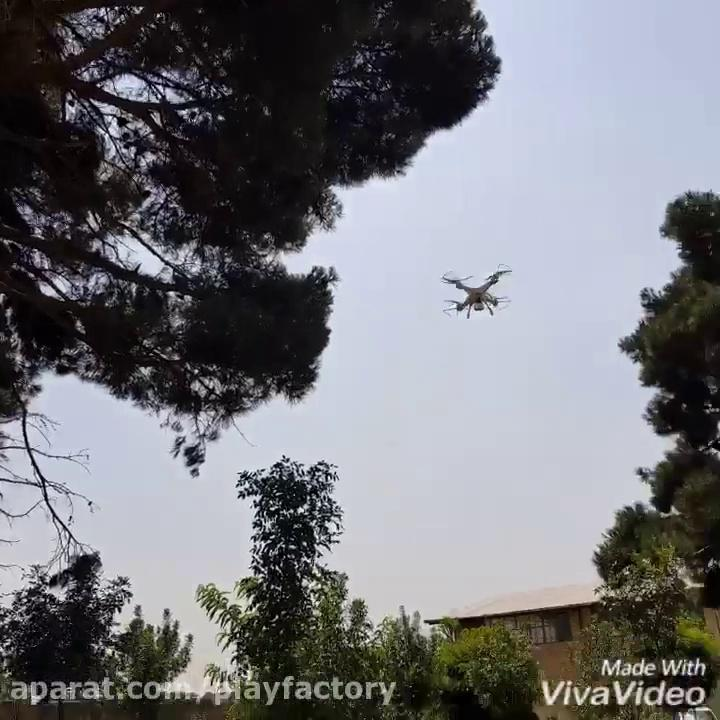drone: (436, 260, 515, 318)
